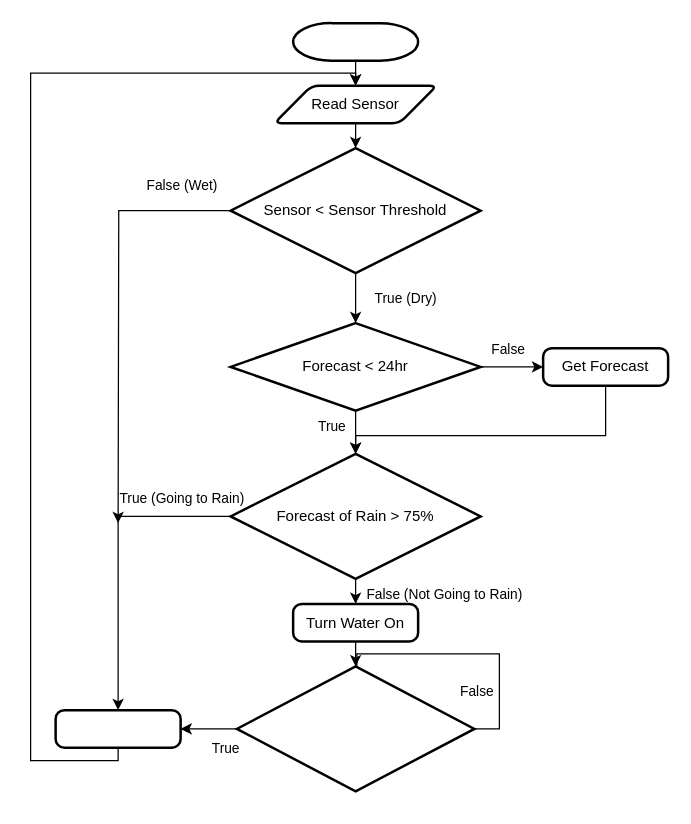
Some shapes in this 691 by 824 pixel diagram are drawn without their labels. The centre of each missing label's shape, as x and y in pixels:
"Begin" belongs at point (355, 41).
"Runtime Expired?" belongs at point (355, 728).
"Turn Water Off" belongs at point (117, 728).
